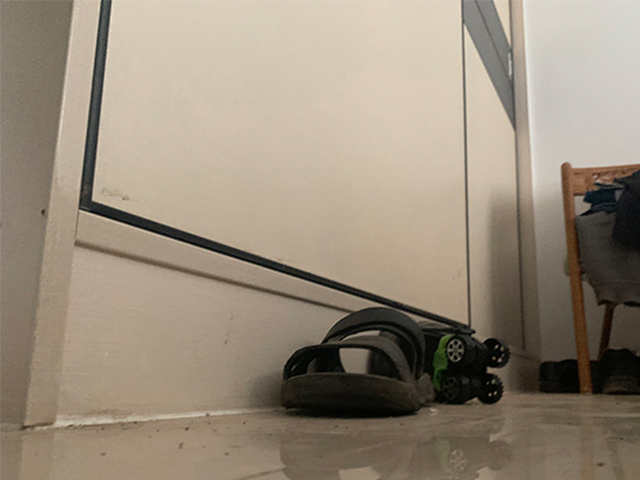cabinet: (1, 1, 538, 428)
slippers: (279, 305, 434, 417)
